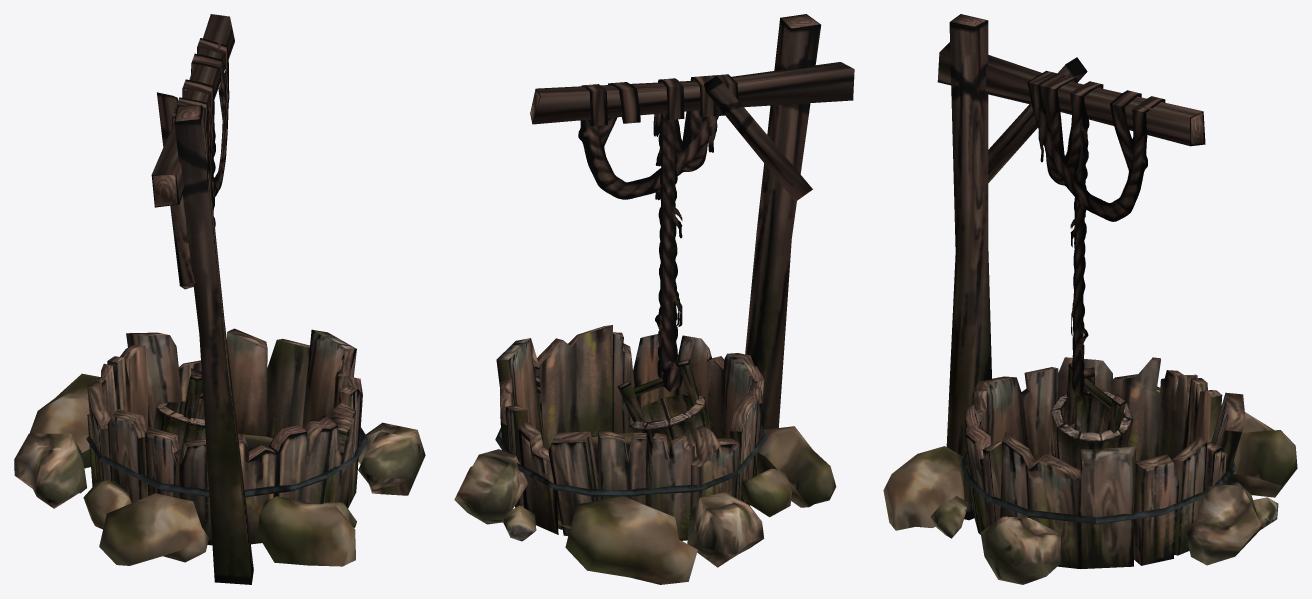
Rendered from PRP_WellOld.FBX.
The picture shows the model from 3 angles, left to right: view 1: azimuth 30°, elevation 25°; view 2: azimuth 150°, elevation 25°; view 3: azimuth 270°, elevation 25°; orthographic projection.
Visible parts, largest first — view 1: PRP_WellOld; view 2: PRP_WellOld; view 3: PRP_WellOld.
Boxes of the visible parts, <box> form: PRP_WellOld: <box>14,14,425,584</box>; PRP_WellOld: <box>454,14,854,584</box>; PRP_WellOld: <box>883,14,1297,584</box>.
Size of the model in its own units: 261 by 370 by 295.
